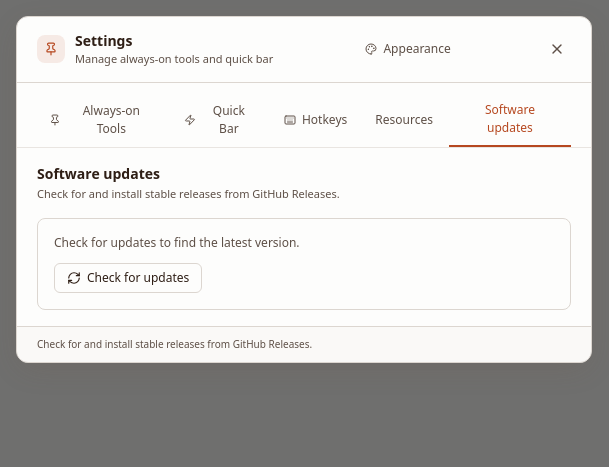
Test: software update status › escapes raw HTML and rejects executable links in release notes
Click the button "Check for updates".
click(128, 278)  # box [54,263,202,293]
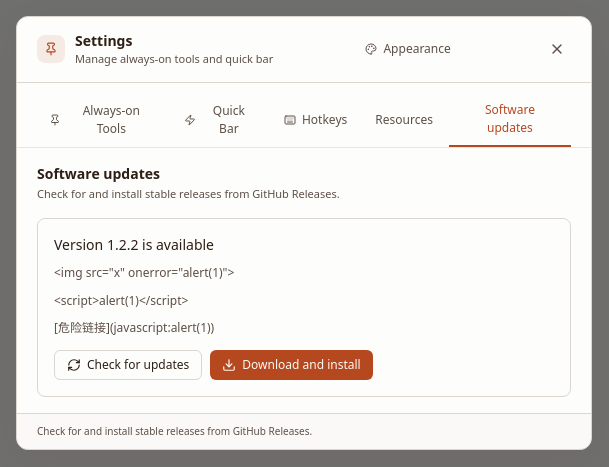
Result: the text "<img src=\"x\" onerror=\"alert(1)\">" is shown at [54,264,234,281]
Result: the text "<script>alert(1)</script>" is shown at [54,292,188,308]
